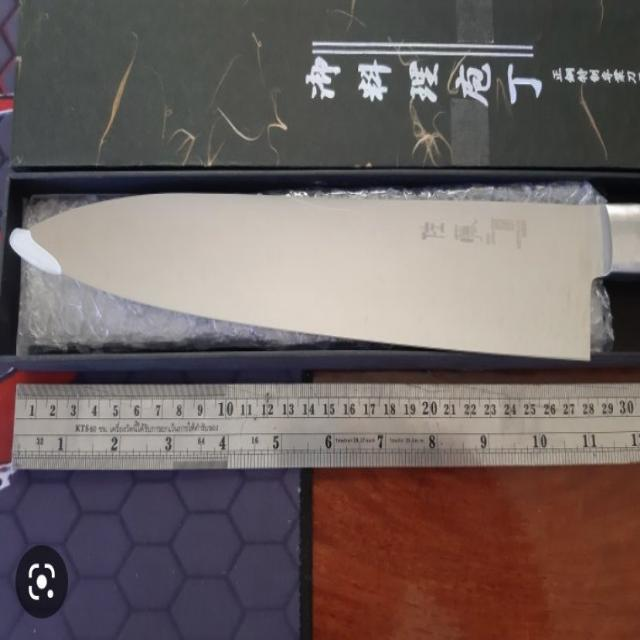Knife: (6, 184, 640, 365)
